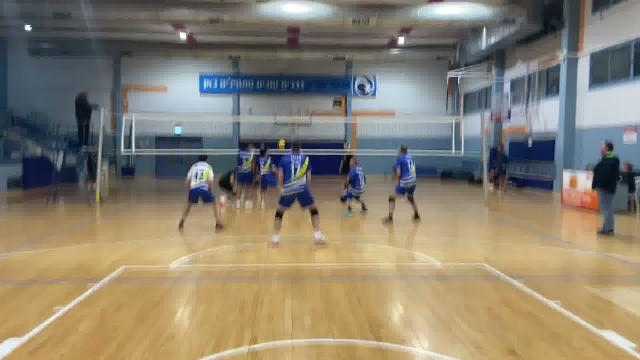ball: (277, 136, 286, 154)
